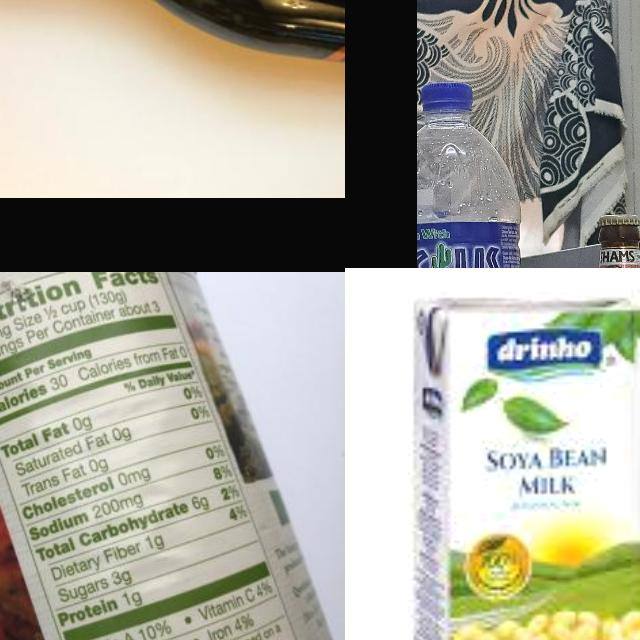caixinha: (417, 286, 640, 640)
garrafa de vidro: (0, 0, 345, 74)
garrafa plástica: (416, 113, 534, 268)
lata: (0, 272, 345, 640)
tampa plástica: (419, 81, 468, 111)
